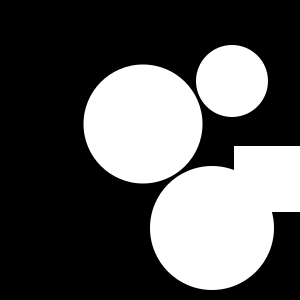circle: (234, 146, 300, 212)
rectangle: (150, 166, 274, 290), (84, 64, 202, 184), (196, 45, 268, 117)
triangle: (129, 73, 139, 83)
